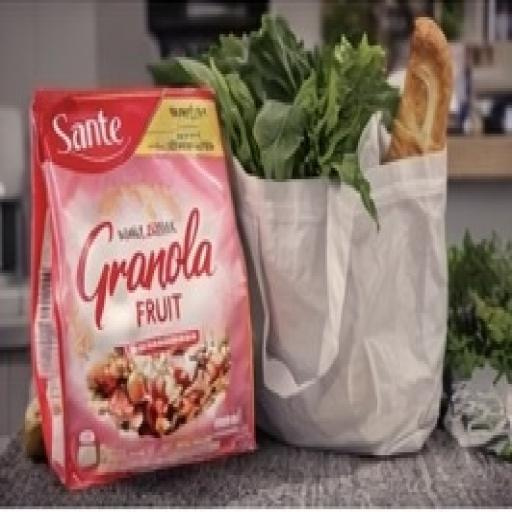granola: (13, 56, 306, 488)
